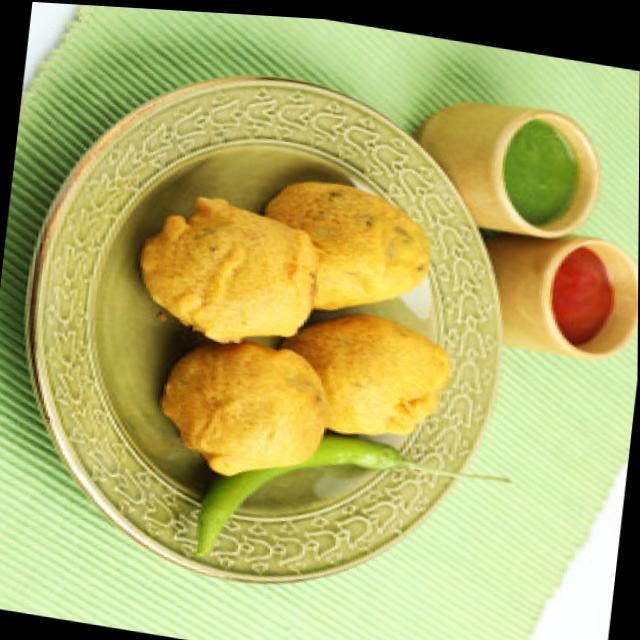BONDA: (140, 180, 454, 478)
GREEN CHUTNEY: (502, 123, 582, 224)
RED CHUTNEY: (553, 247, 622, 347)
